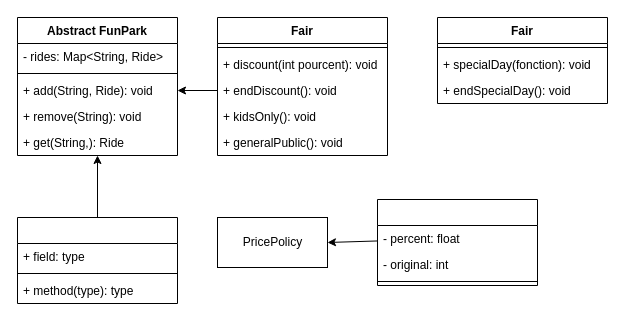
This 625x324 diagram has some shape labels left out. The box of each missing label's shape, as (x1, y1, x2, y2) in pixels:
Classname: (376, 198, 538, 286)
Park: (16, 216, 178, 304)
